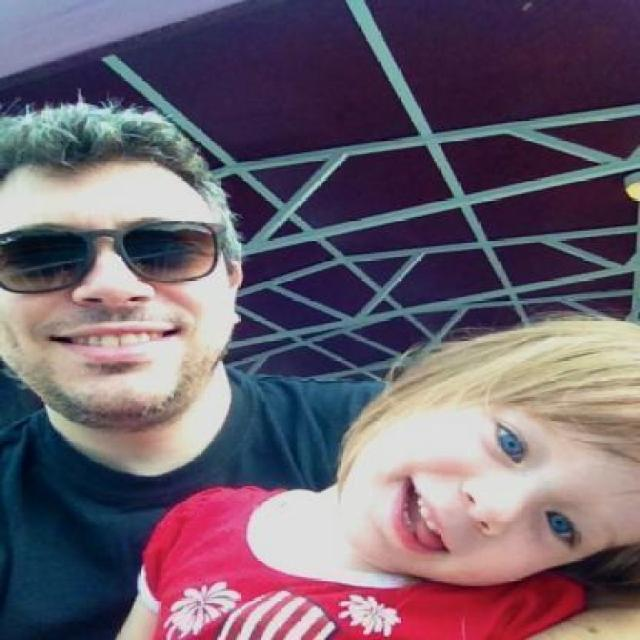face_nomask: (361, 393, 610, 579), (0, 216, 240, 382)
glasses: (0, 217, 242, 294)
head_nohelmet: (0, 86, 217, 196)
